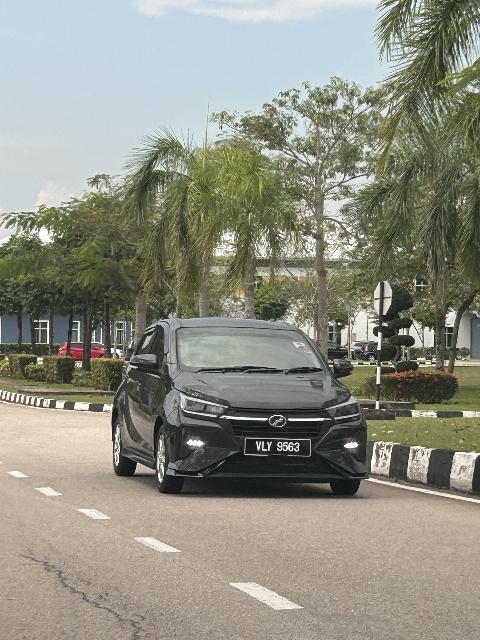License_Plate: (245, 438, 311, 459)
car: (104, 311, 373, 501)
